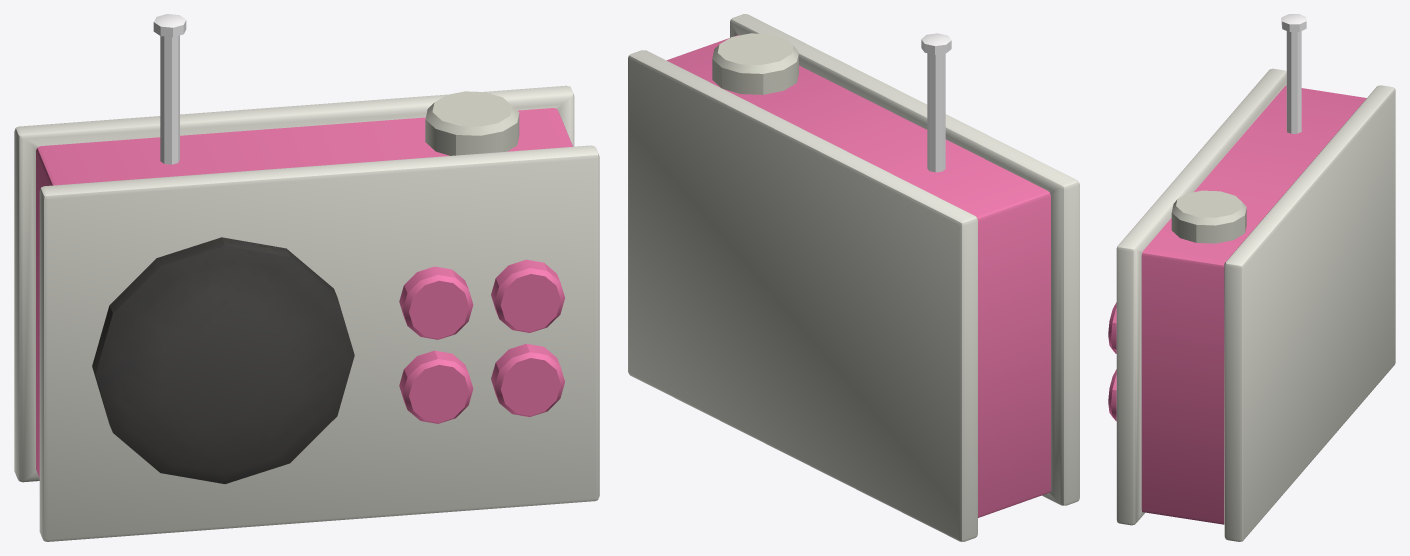
File: 7-radio.glb
3 renders of one model, left to right at view 1: azimuth 30°, elevation 25°; view 2: azimuth 150°, elevation 25°; view 3: azimuth 270°, elevation 25°, orthographic. The views are drawn at different scales.
Visible parts, largest first — view 1: radio.001; view 2: radio.001; view 3: radio.001.
Part boxes in pixels (left/top/right/bottom): radio.001: left=14, top=14, right=599, bottom=541; radio.001: left=628, top=14, right=1079, bottom=541; radio.001: left=1108, top=14, right=1395, bottom=541.
Bounding box in the file's own units: 9.06 × 8.17 × 5.57.
Materials: 1 (1 with a texture image).
